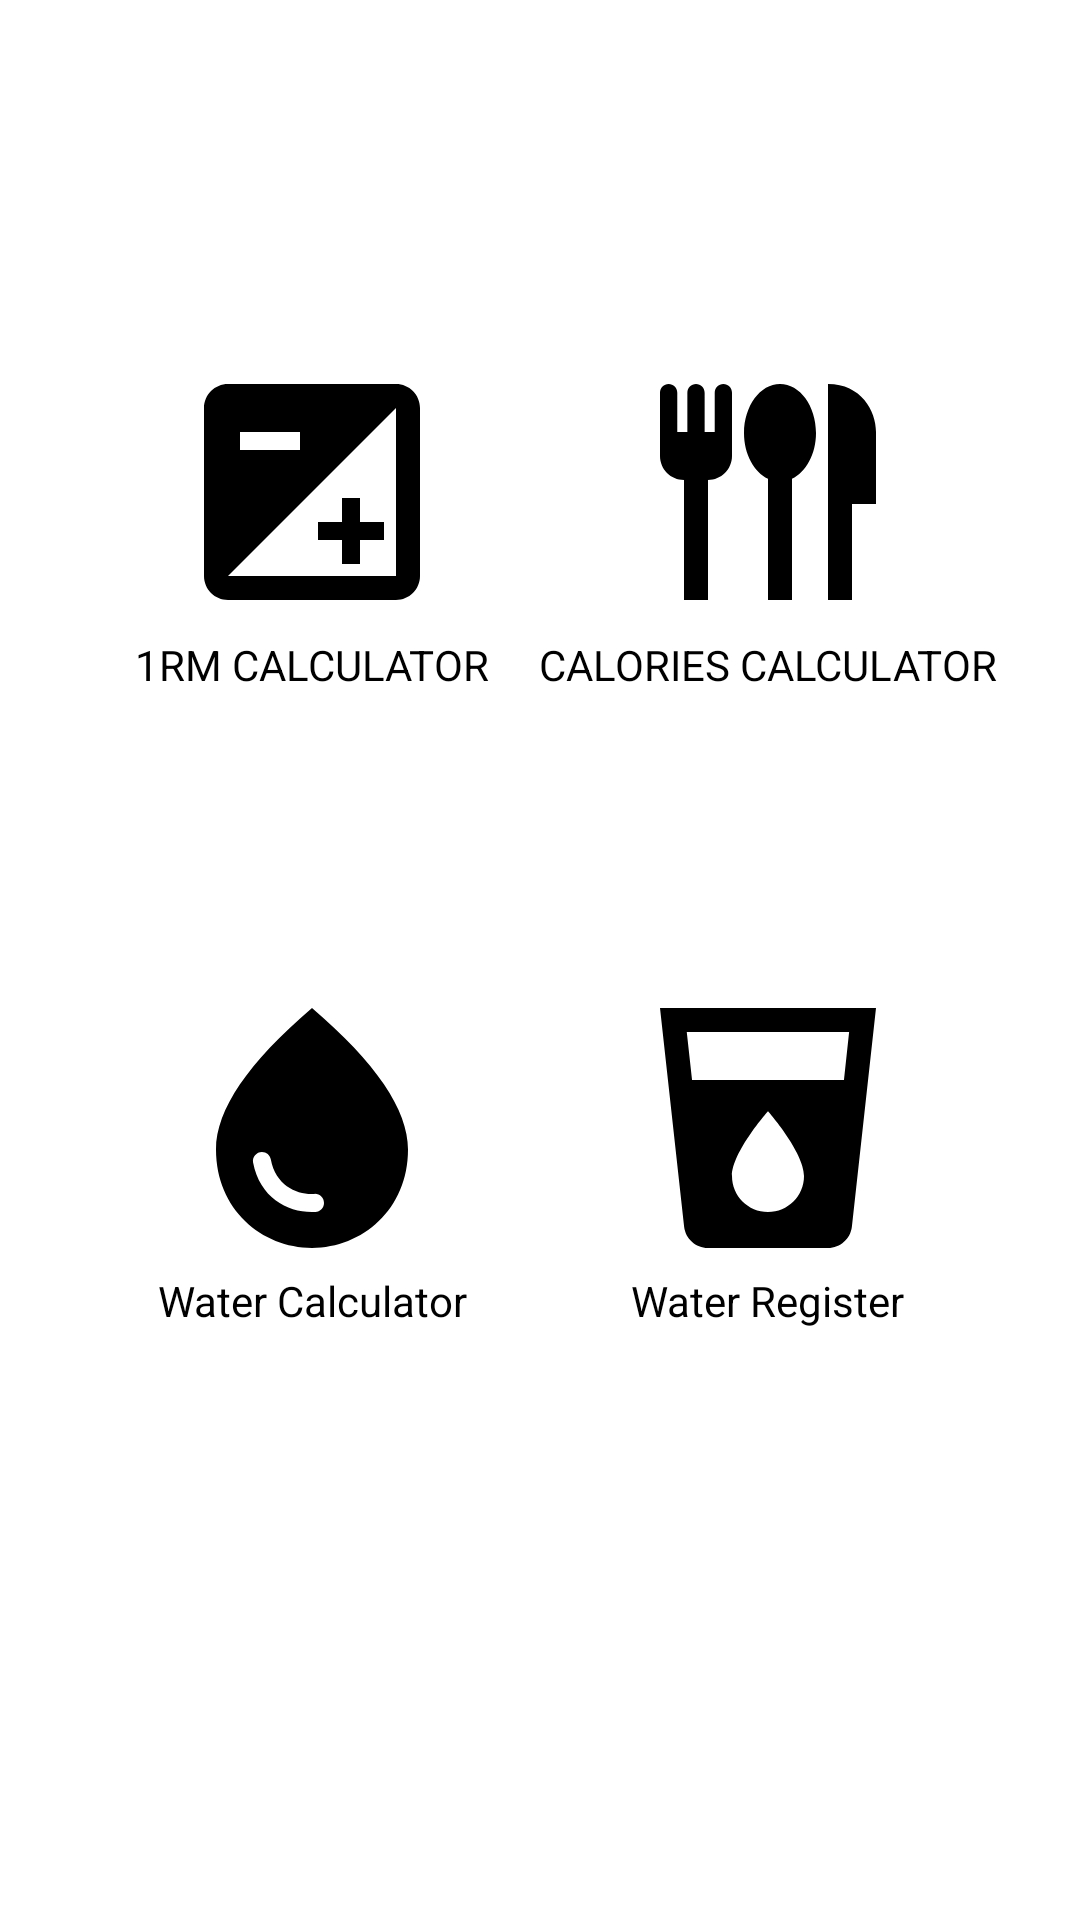

Named icons in this screenshot (1080 x 1920) and their centers, [x,y]:
exposure: [312,492]
flatware: [768,492]
local drink: [768,1128]
water drop: [312,1128]
